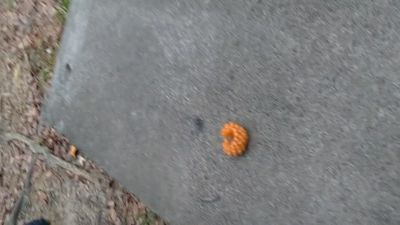eggs: (219, 120, 250, 158)
